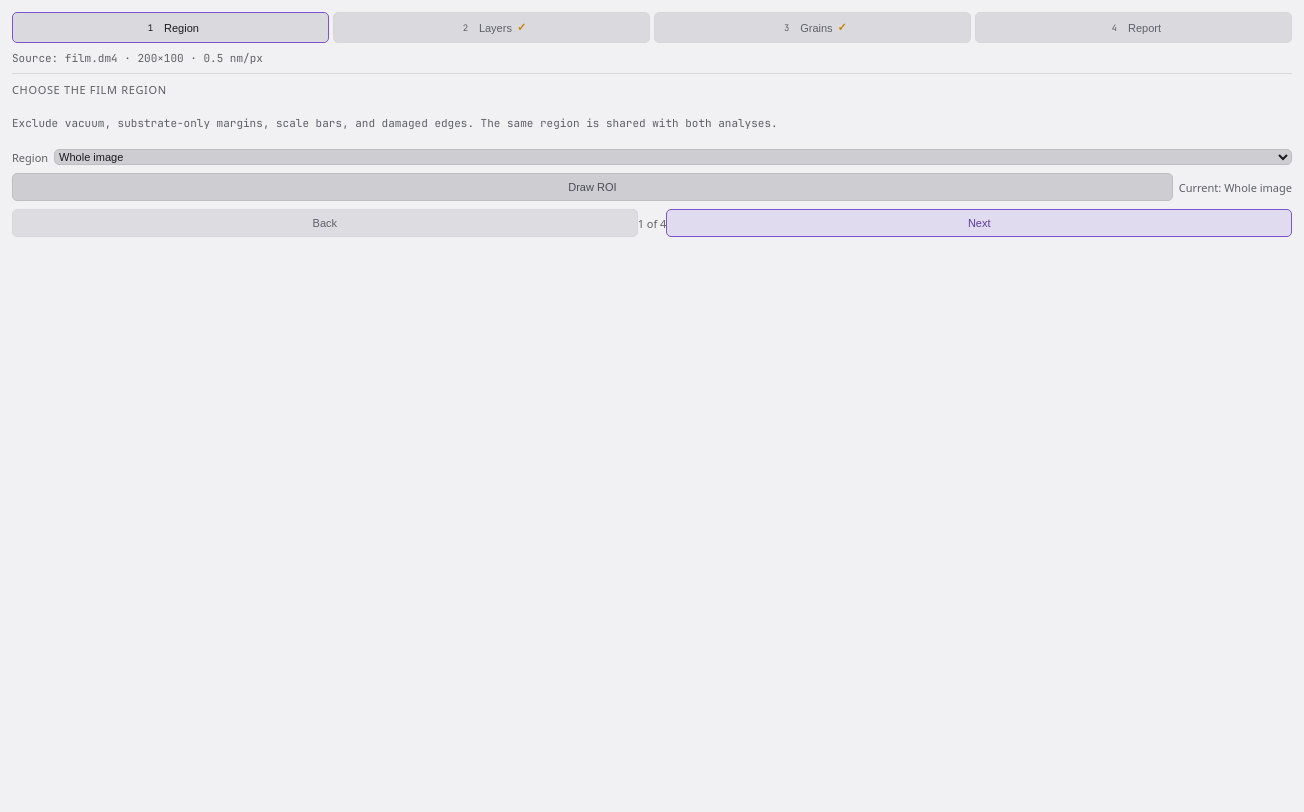
Test case: CrossSectionGuide › still blocks export on an unacknowledged poor result
Click the button "4 Report".
click(1134, 28)  # box [975,12,1292,43]
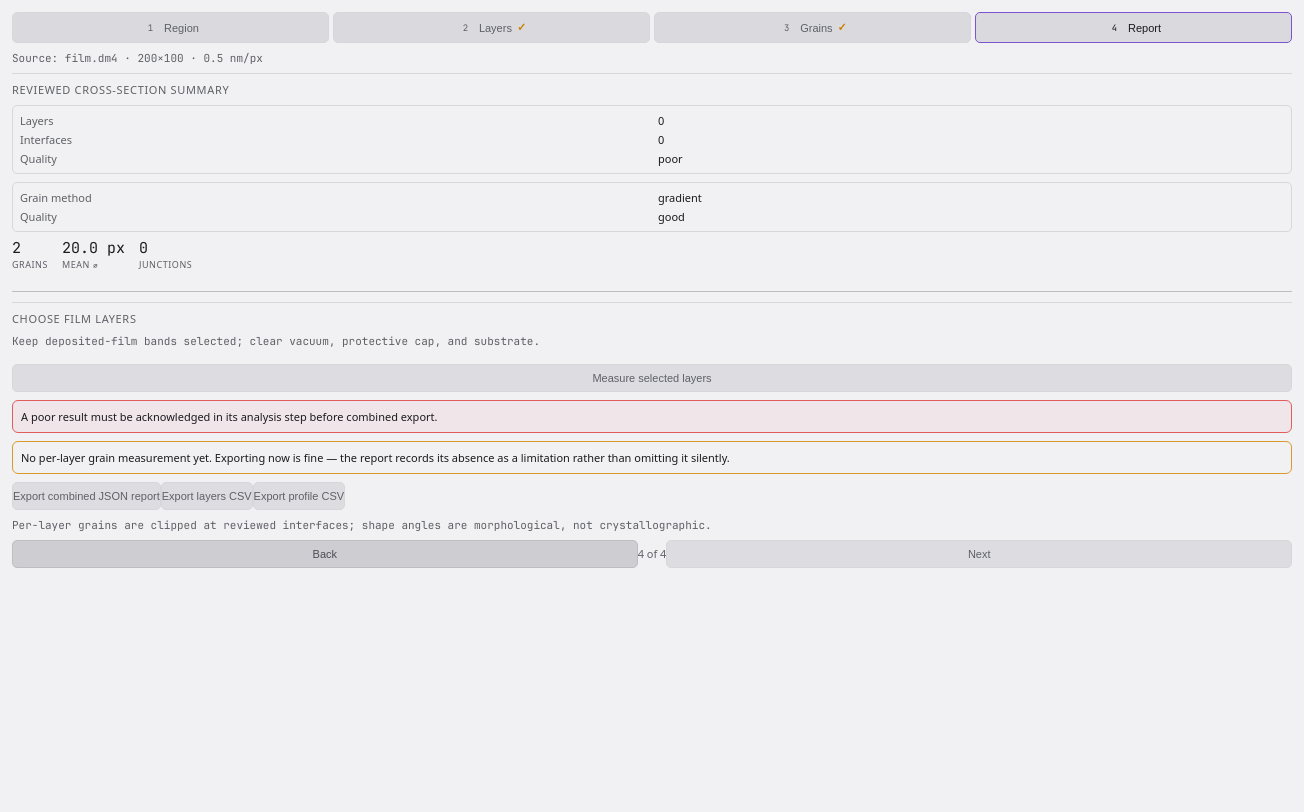
Now the button "Export combined JSON report" is disabled, box [12,482,161,510]
